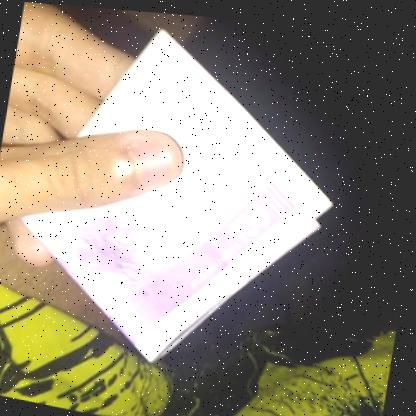one_hundred-front-vef: (0, 0, 356, 393)
